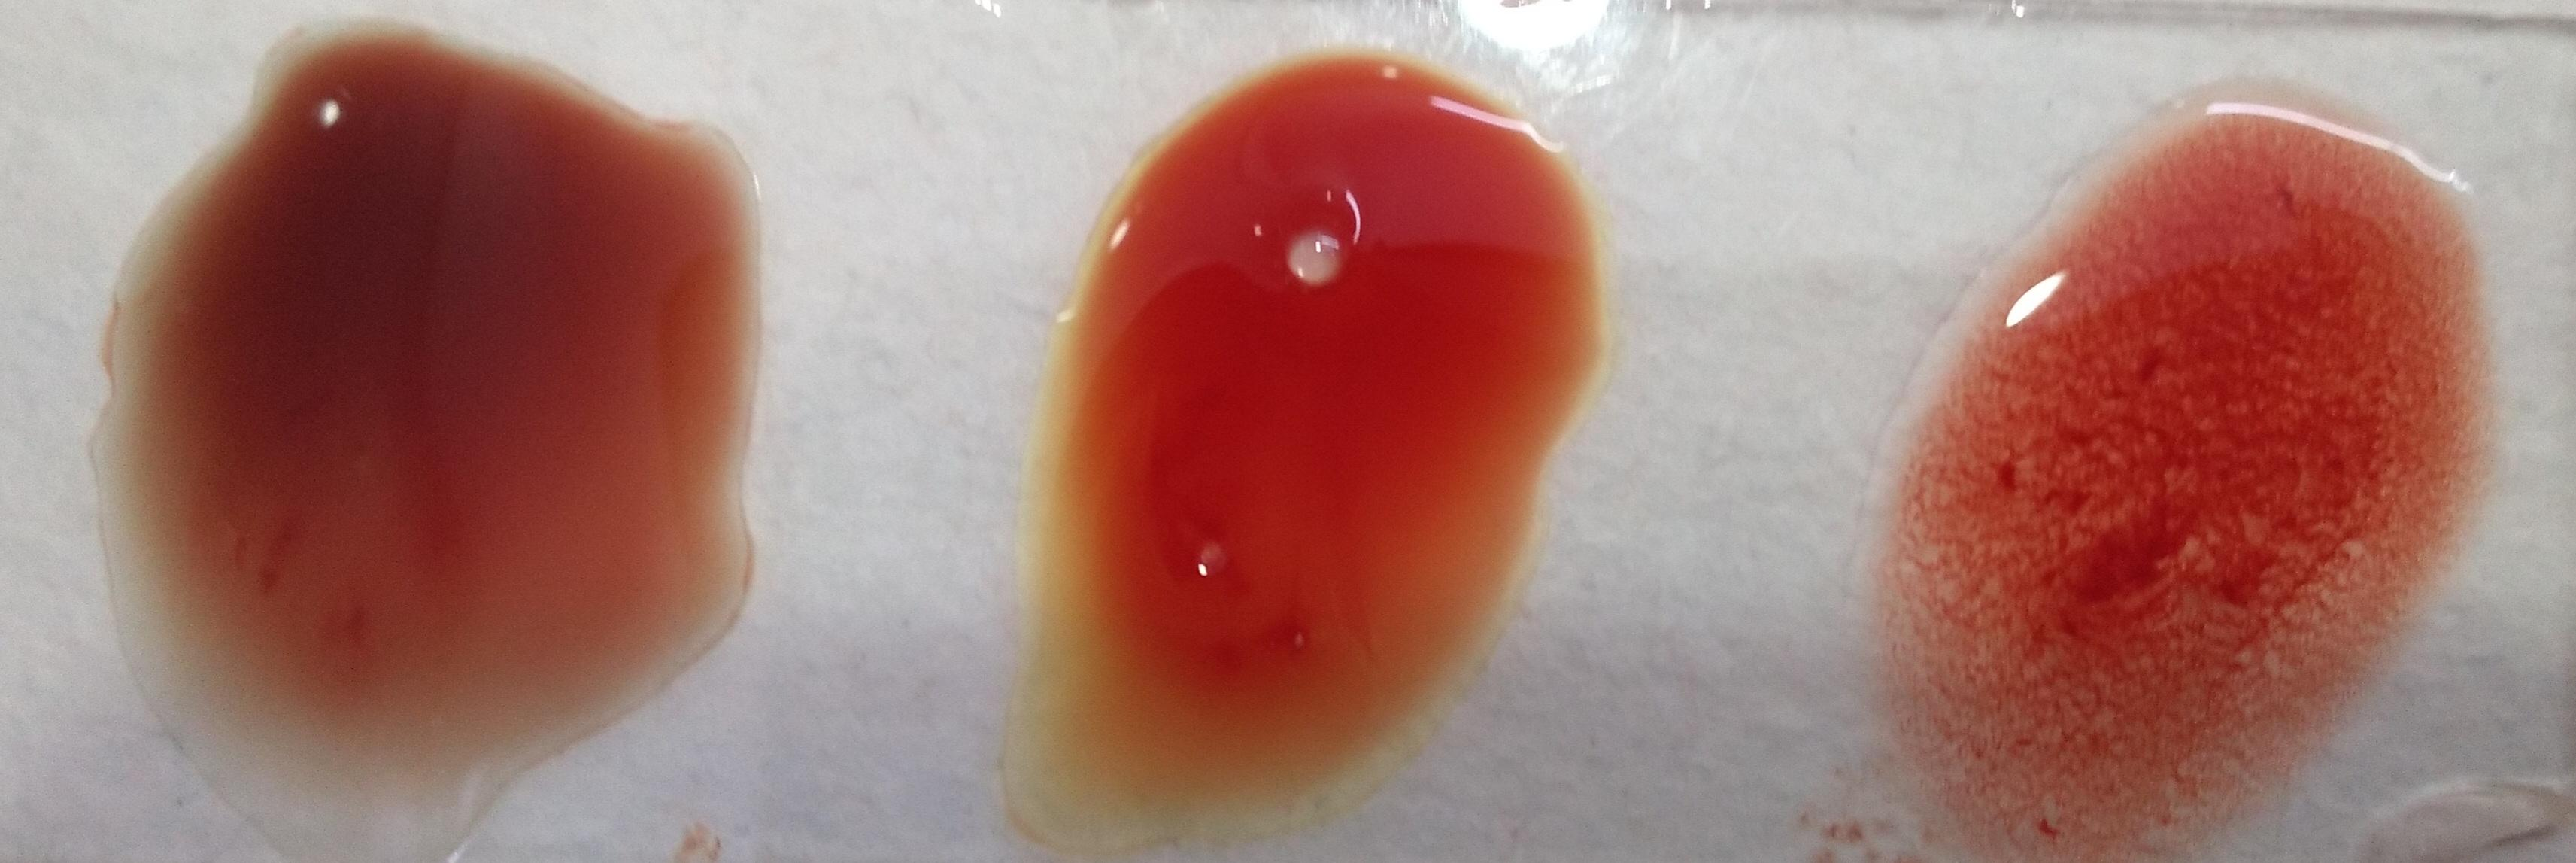D: (1888, 89, 2461, 828)
